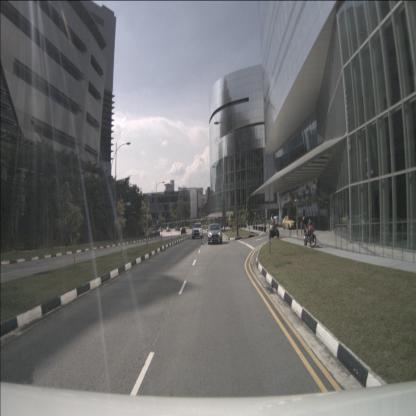vehicle-car: (208, 223, 222, 245), (282, 215, 298, 229), (335, 213, 348, 228), (181, 228, 186, 235)
vehicle-motorcycle: (302, 216, 317, 248), (268, 214, 280, 240)
vehicle-truck: (192, 223, 203, 239), (229, 219, 240, 229)
